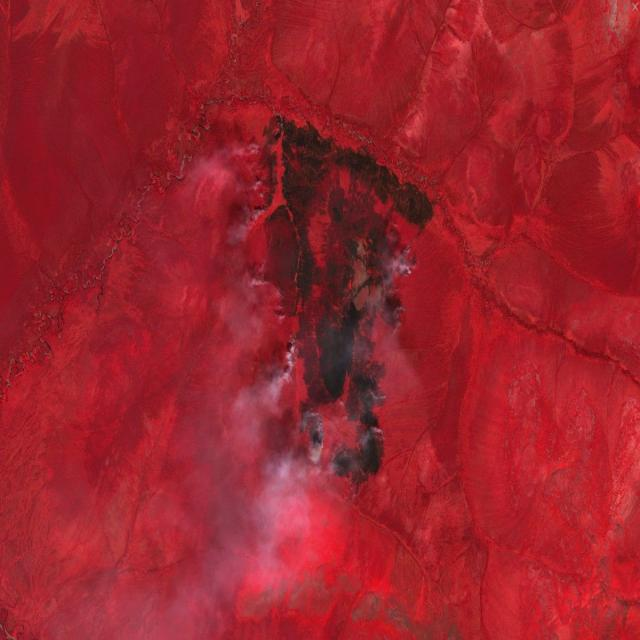fire: (252, 134, 418, 497)
